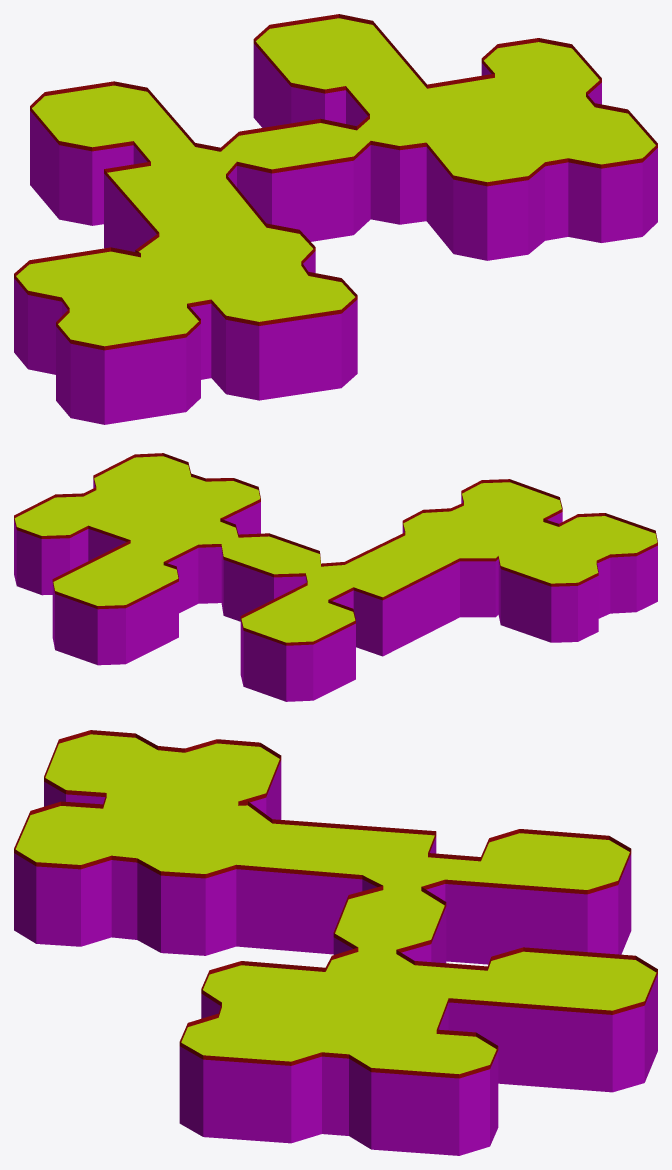
File: lct_12.glb
The picture shows the model from 3 angles, top to bottom: view 1: azimuth 30°, elevation 25°; view 2: azimuth 150°, elevation 25°; view 3: azimuth 270°, elevation 25°; orthographic projection. The views are drawn at different scales.
Parts seen in each view (by area): view 1: lct_12; view 2: lct_12; view 3: lct_12.
Boxes of the visible parts, x1,y1,x2,y2 form: lct_12: [14, 14, 657, 424]; lct_12: [14, 453, 657, 701]; lct_12: [14, 730, 657, 1155].
Size of the model in its own units: 59.82 by 6.63 by 47.3.
